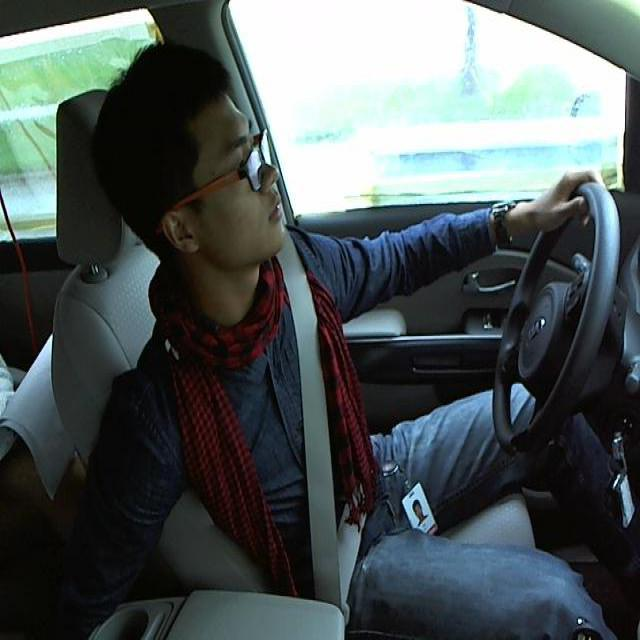seatbelt: (266, 244, 370, 591)
